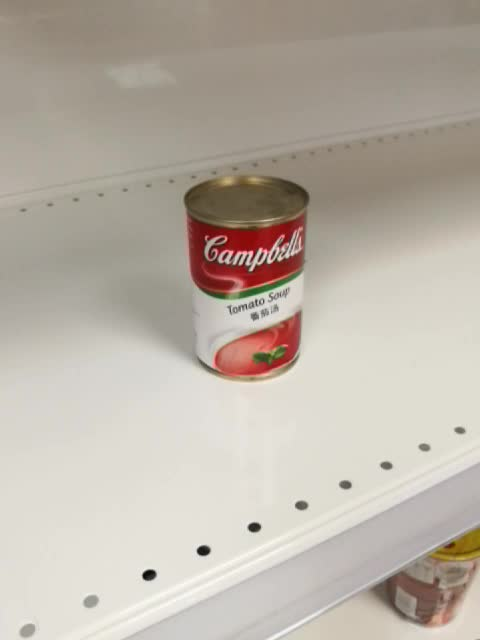tomatosoup: (183, 175, 310, 383)
